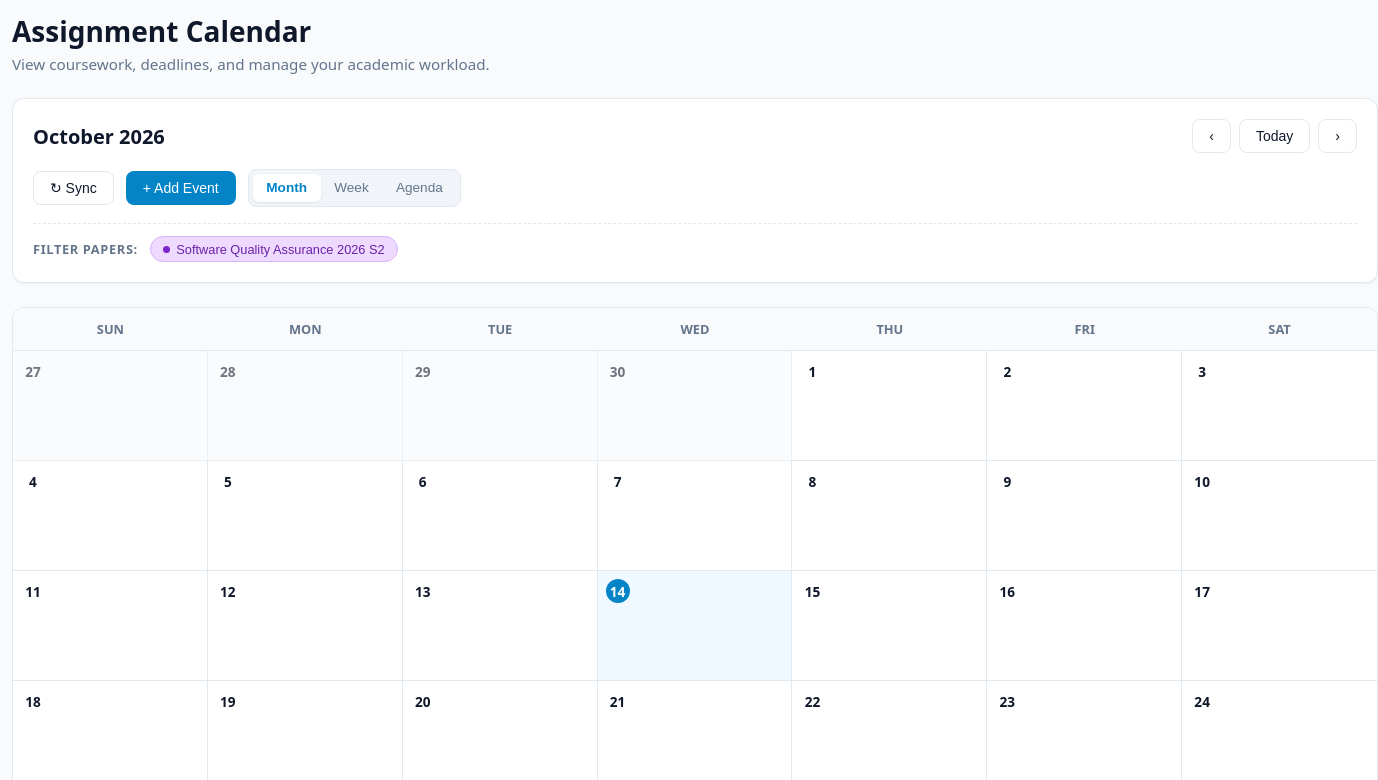
Test case: Calendar - views (FR-04) › TC-32: keeps event data when switching away from a view and back again
This screenshot has width=1378, height=780.
Click the button "Agenda" at x=419, y=188, box [382,174,456,202]
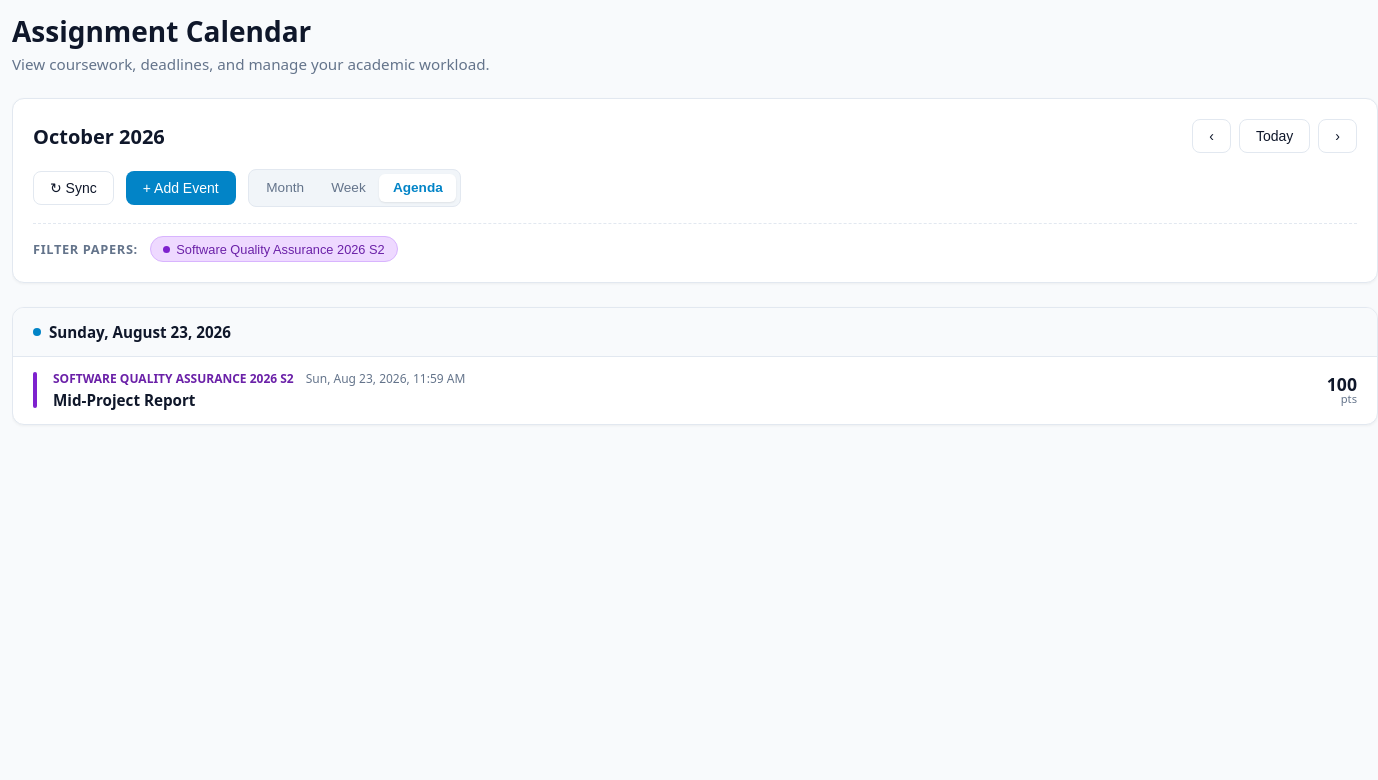
Now the heading "Mid-Project Report" is shown, box [53,390,196,410]
Click the button "Month" at x=285, y=188, box [253,174,318,202]
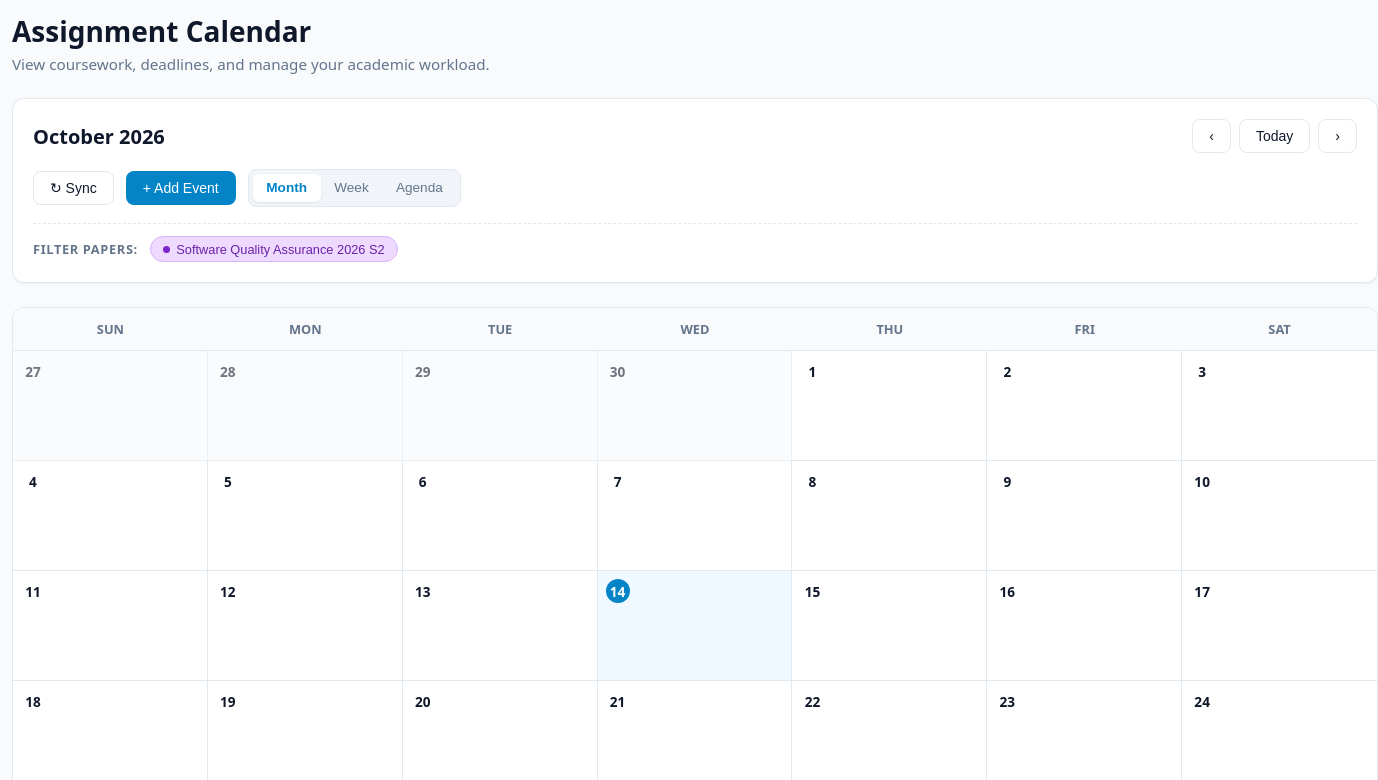
Click the button "Agenda" at x=419, y=188, box [382,174,456,202]
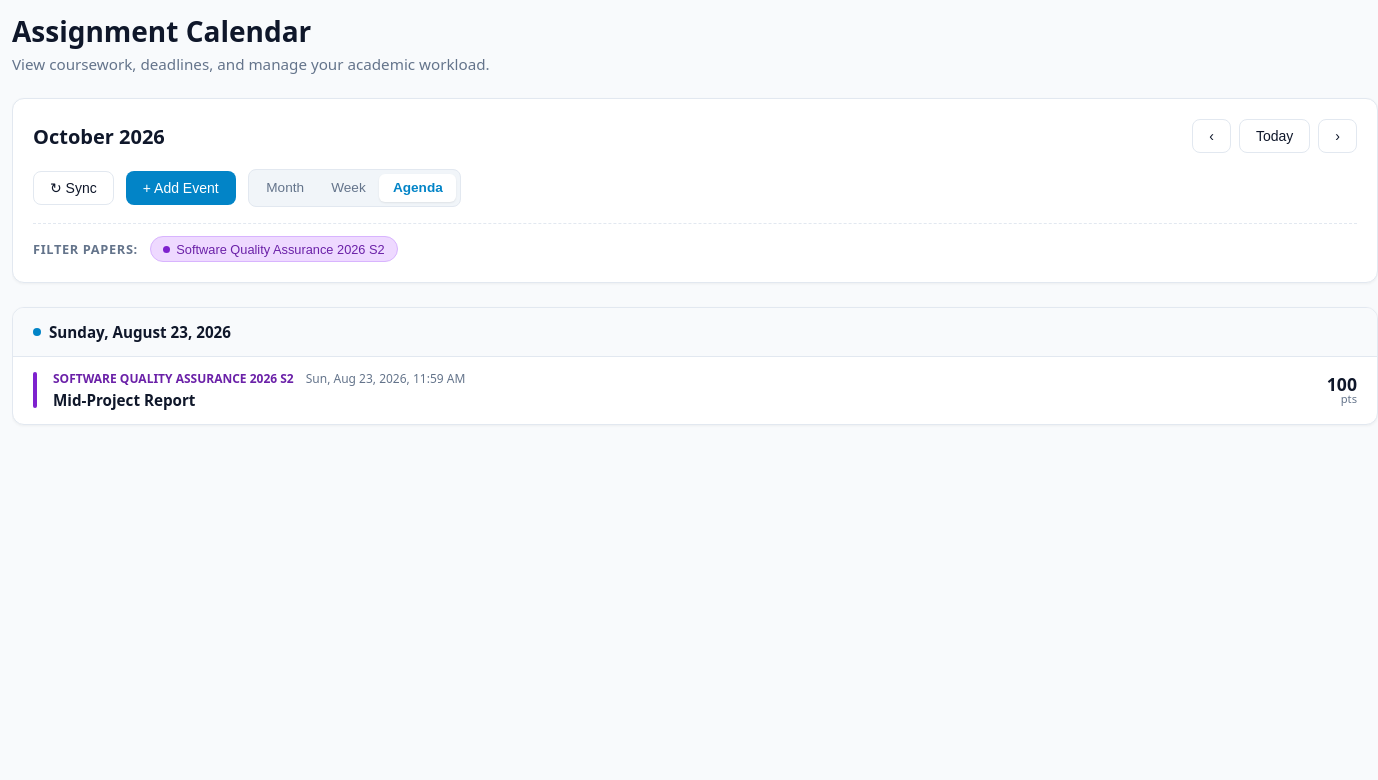
Now the heading "Mid-Project Report" is shown, box [53,390,196,410]
